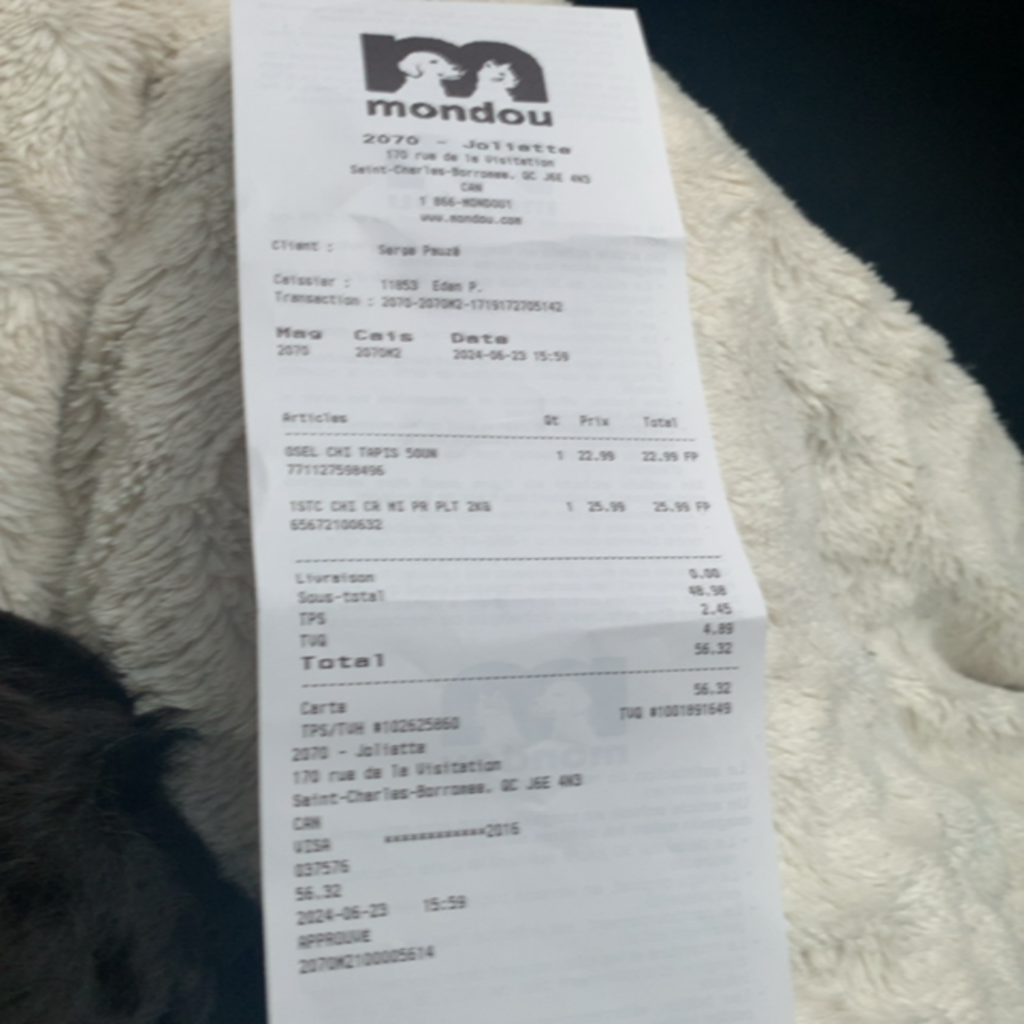recipt: (233, 0, 797, 1011)
